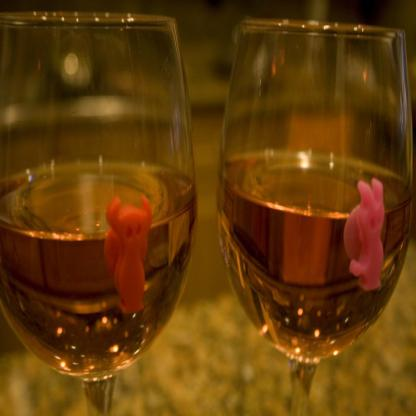drinking: (0, 11, 199, 415), (216, 18, 415, 415)
